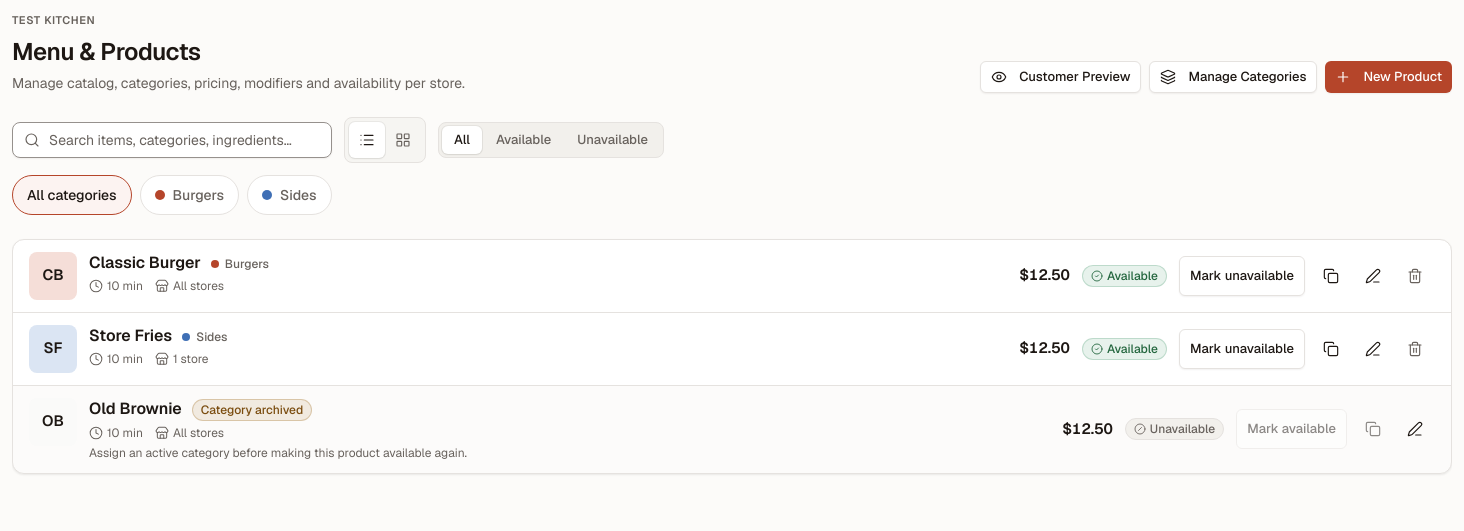
loading and error states › distinguishes 'no match for the filters' from an empty menu
Expected: the heading "Classic Burger" is shown, top-left (89, 252), bottom-right (201, 274)
In the search field named "Search the menu": (172, 140) top-left (12, 122), bottom-right (332, 158), type "pizza"
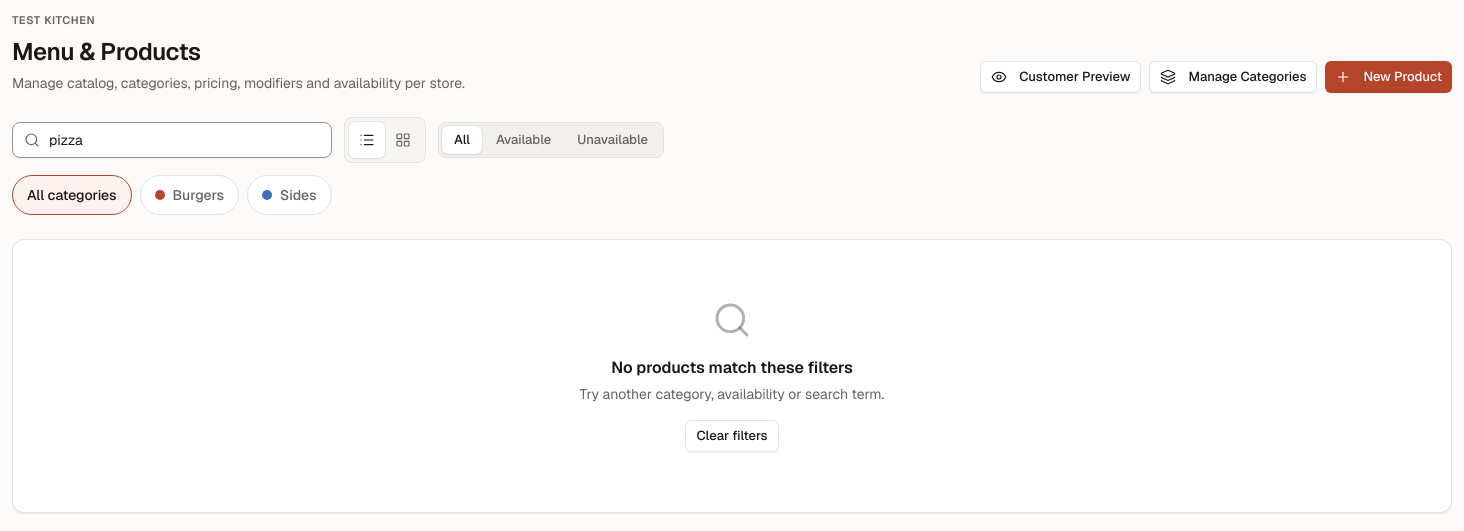
Expected: the heading "No products match these filters" is shown, top-left (611, 356), bottom-right (853, 378)
Click the button "Clear filters": (732, 436) top-left (686, 420), bottom-right (778, 452)
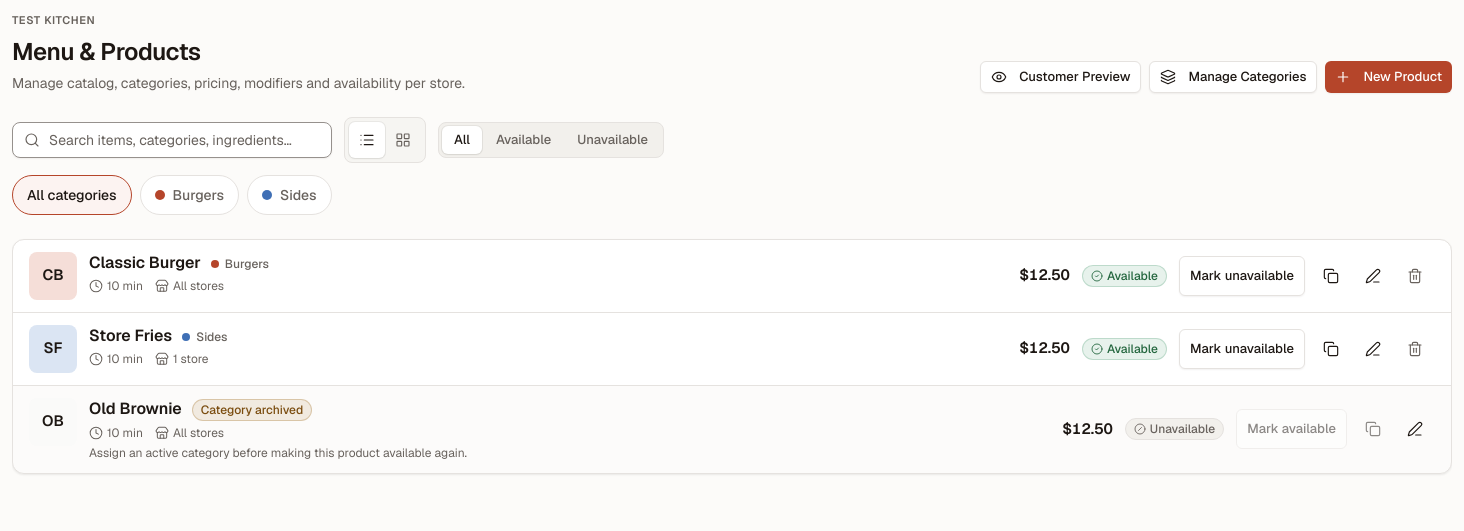
Expected: the heading "Classic Burger" is shown, top-left (89, 252), bottom-right (201, 274)
